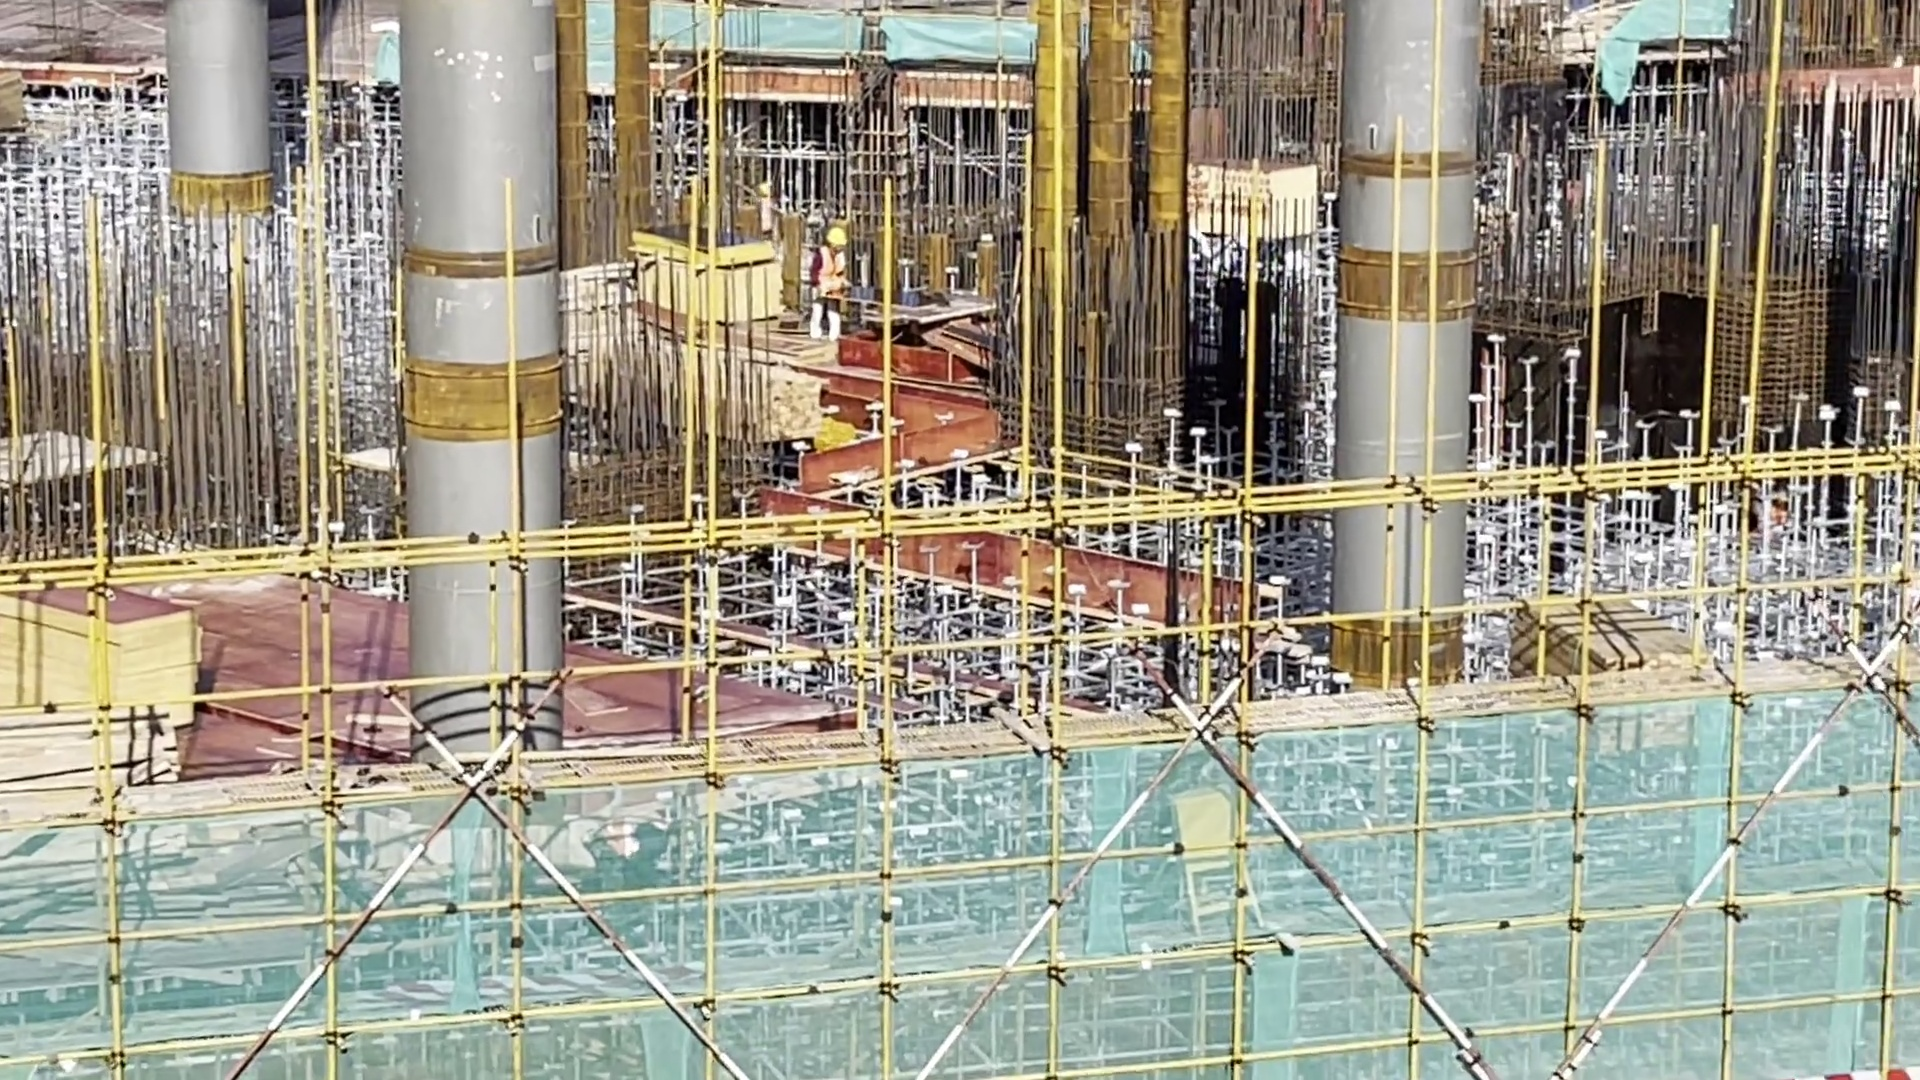helmet: (818, 228, 857, 257)
person: (809, 216, 862, 336)
vest: (813, 247, 857, 304)
